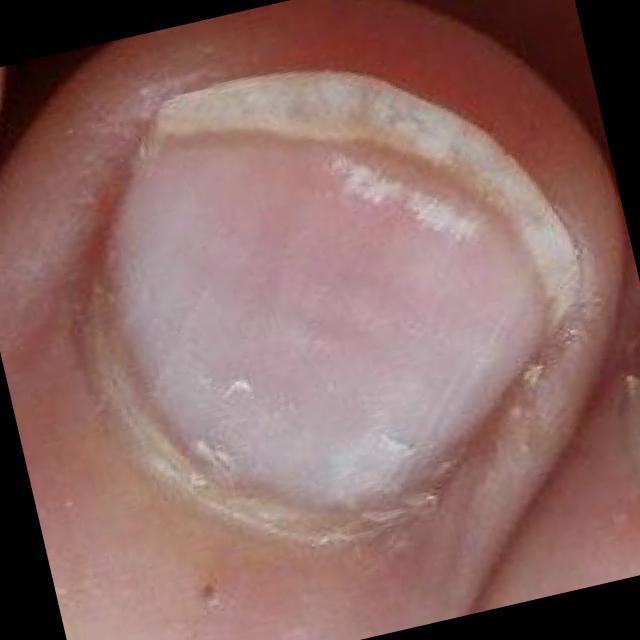Nail: (82, 62, 582, 508)
